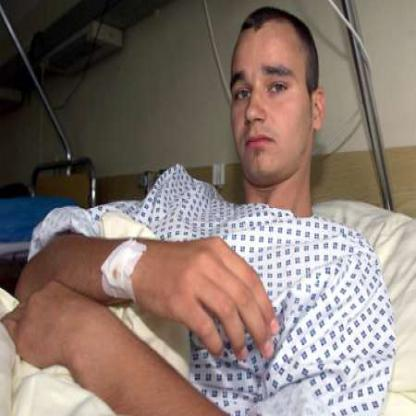face: (224, 11, 314, 190)
